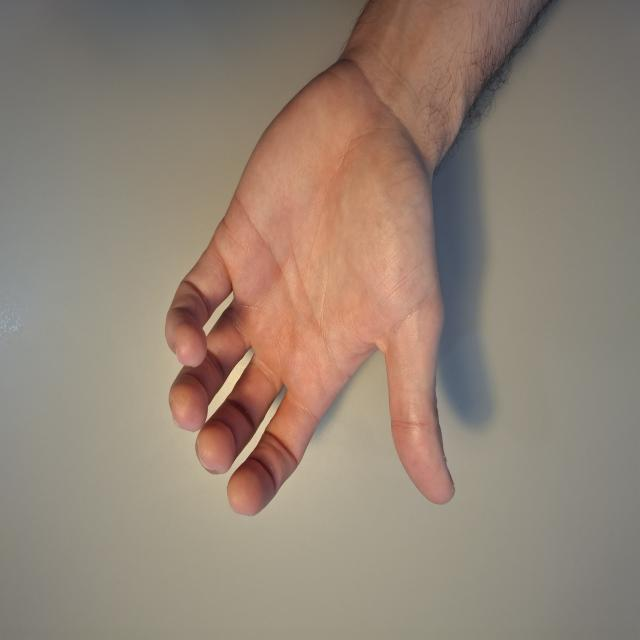glove_off: (162, 61, 459, 520)
